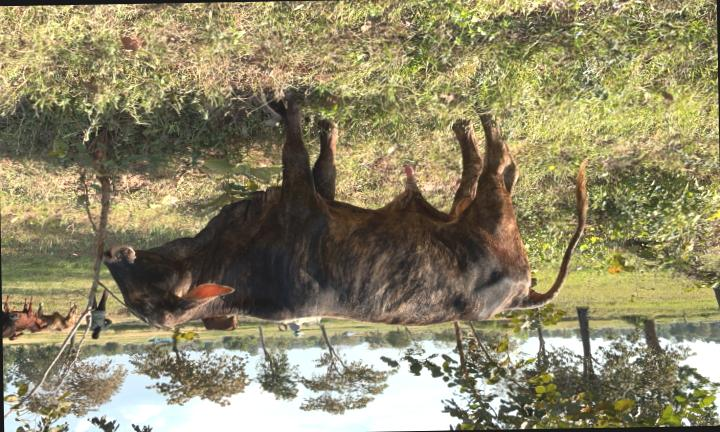Charolais: (103, 97, 587, 326)
